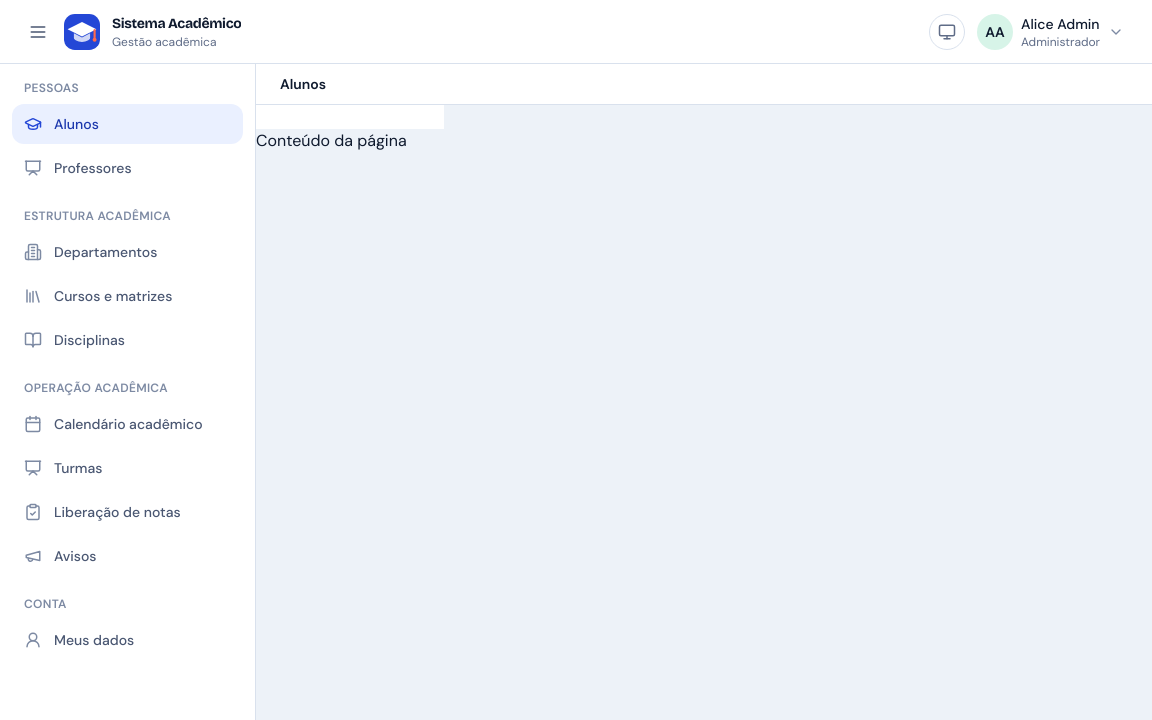
AppShell on a wide screen › collapses to icons, remembers the choice, and expands again
Click the button named "Recolher menu": (38, 32) [20,14,56,50]
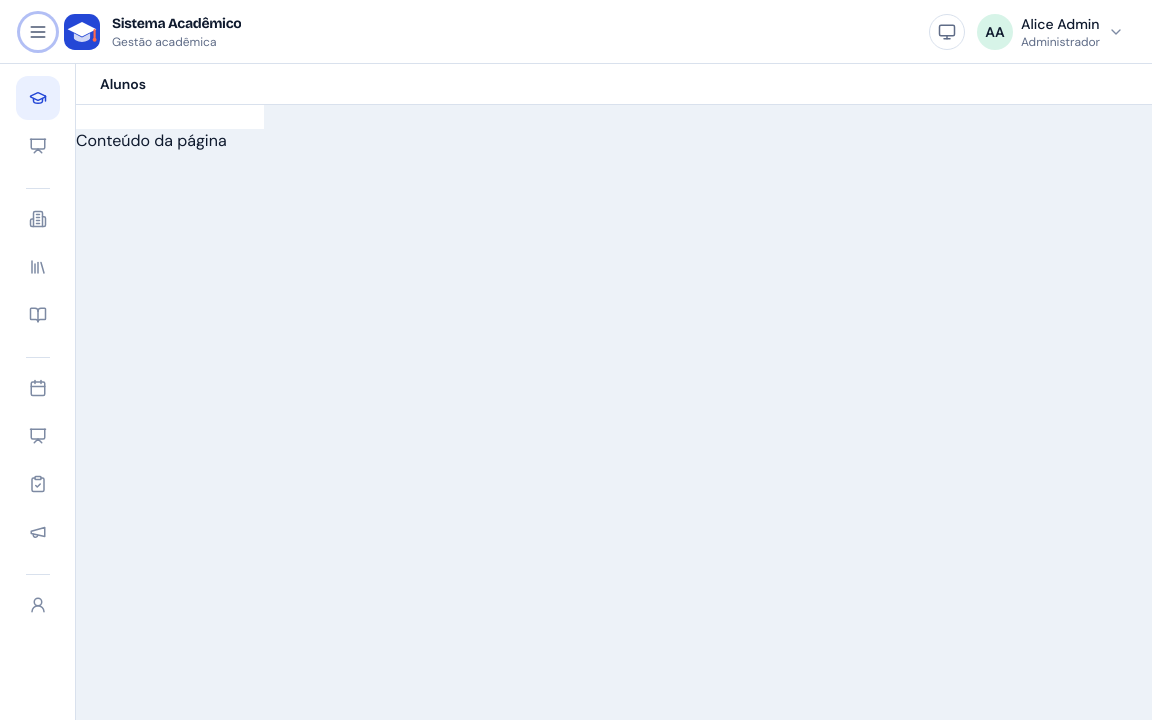
Result: the text "Pessoas" is gone
Click the button named "Expandir menu": (38, 32) [20,14,56,50]
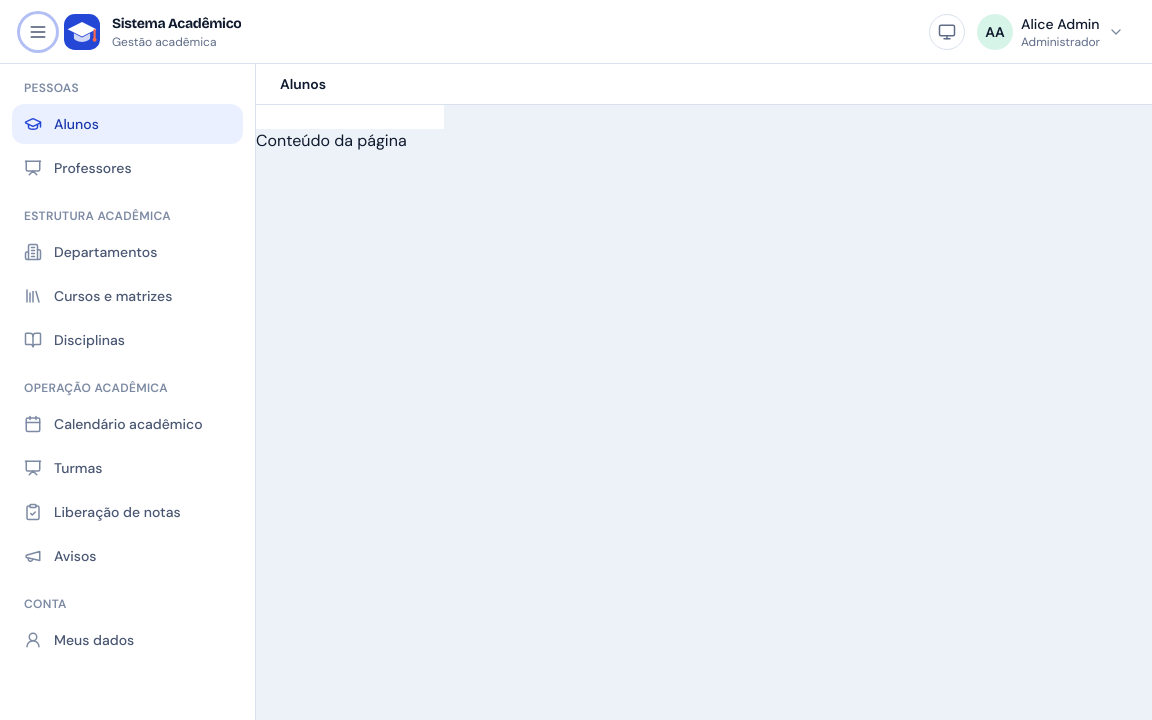
Result: the text "Pessoas" is shown at [24,80,79,96]
